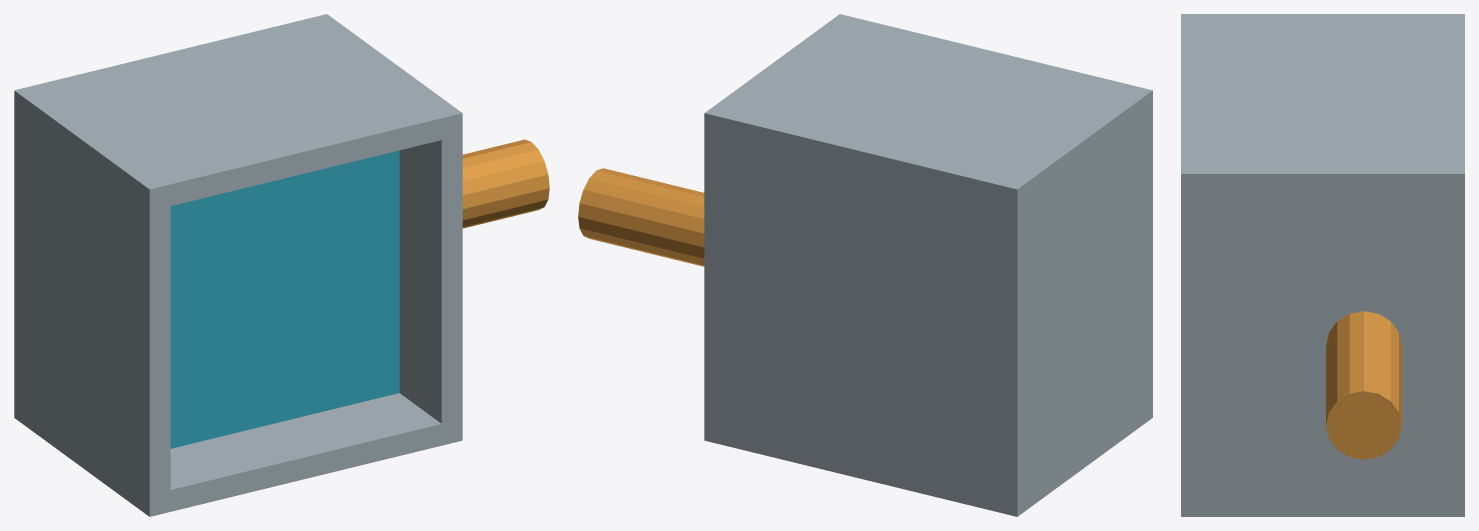
The model's file is camara_de_carga.obj.
3 views of the same model, side by side, from view 1: azimuth 30°, elevation 25°; view 2: azimuth 150°, elevation 25°; view 3: azimuth 270°, elevation 25° (orthographic). The views are drawn at different scales.
Parts seen in each view (by area): view 1: Agua_ilustrativa, Muro_derecho, Cabecera, Muro_izquierdo, Salida, Losa, Salida_a_tuberia; view 2: Losa, Muro_derecho, Cabecera, Salida_a_tuberia, Muro_izquierdo; view 3: Salida, Muro_derecho, Losa, Salida_a_tuberia, Muro_izquierdo.
Boxes of the visible parts, x1,y1,x2,y2 form: Agua_ilustrativa: (170,150,399,448); Muro_derecho: (29,25,462,211); Cabecera: (29,123,170,494); Muro_izquierdo: (29,393,462,516); Salida: (399,135,462,423); Losa: (14,14,341,428); Salida_a_tuberia: (462,139,549,228); Losa: (704,102,1032,516); Muro_derecho: (720,14,1152,199); Cabecera: (1032,112,1152,483); Salida_a_tuberia: (578,168,704,266); Muro_izquierdo: (1032,396,1152,505); Salida: (1181,196,1433,493); Muro_derecho: (1181,14,1433,196); Losa: (1433,14,1464,516); Salida_a_tuberia: (1326,311,1401,459); Muro_izquierdo: (1181,494,1433,516).
Bounding box in the file's own units: 4.5 × 3 × 2.25.
